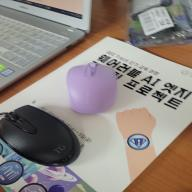mouse: (0, 104, 82, 168), (65, 60, 115, 116)
